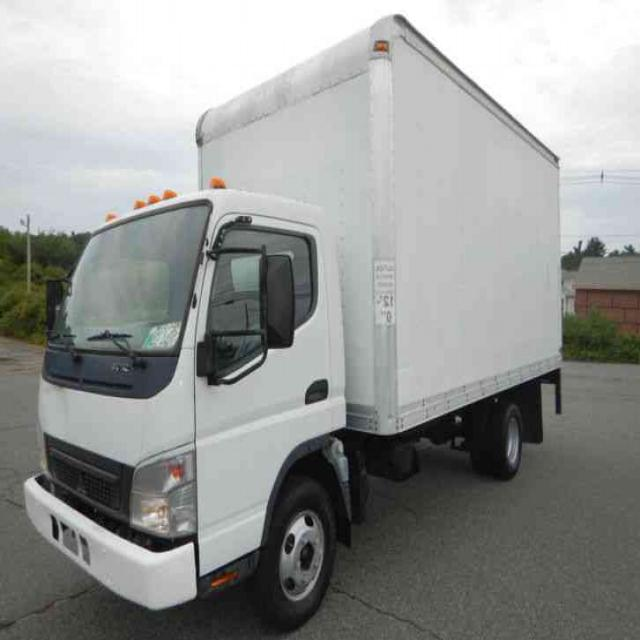truck: (20, 14, 562, 619)
